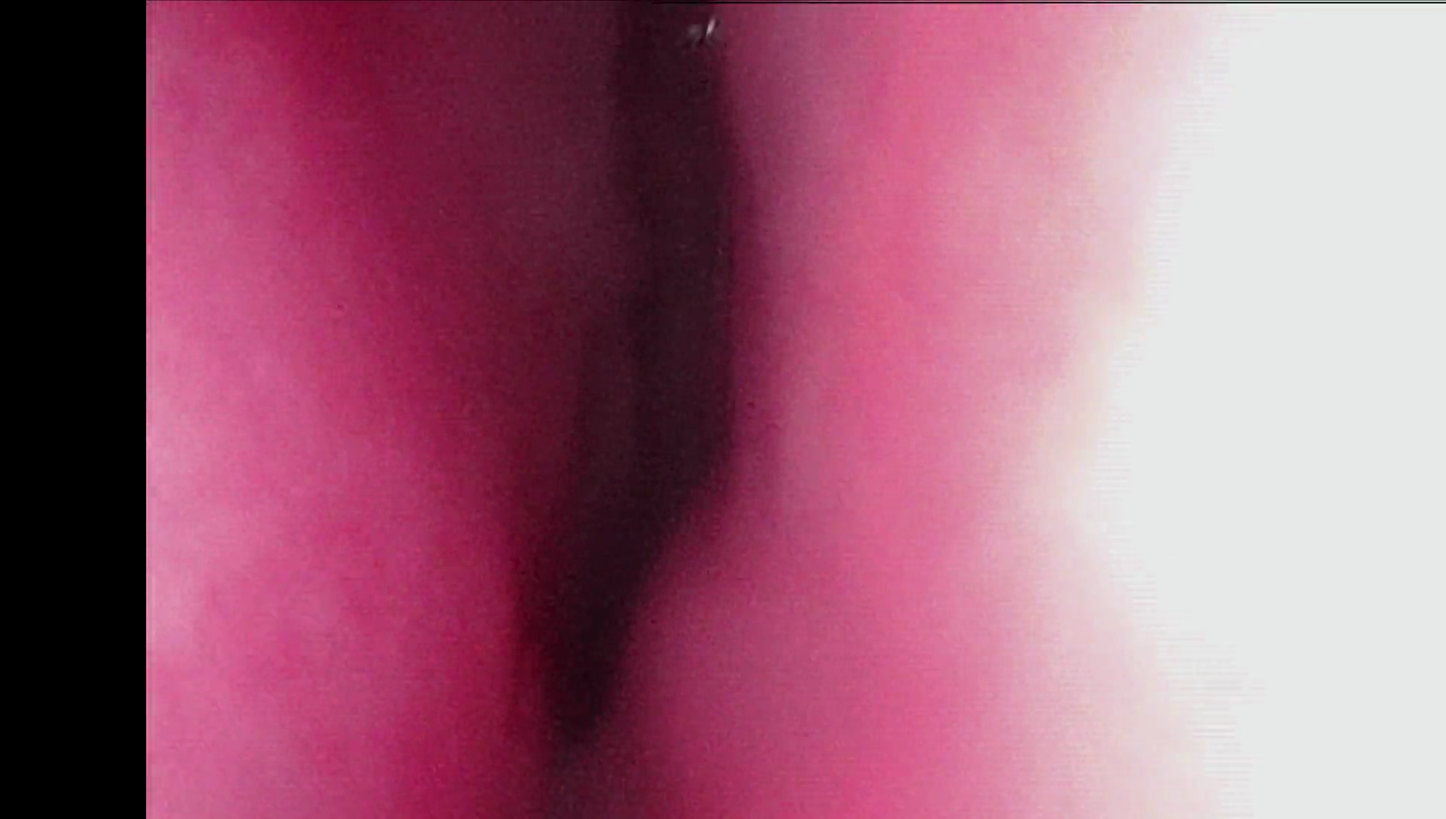close_wall: (840, 10, 1446, 819), (152, 11, 448, 819)
next: (499, 386, 745, 727)
